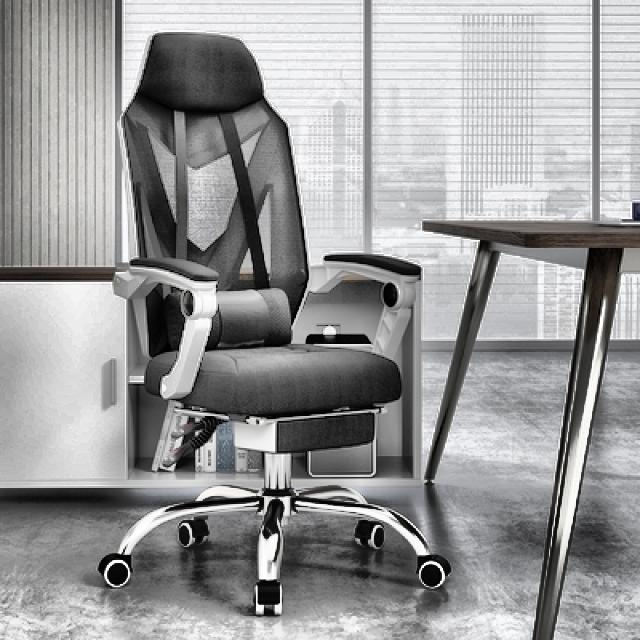cadeira: (99, 27, 455, 620)
